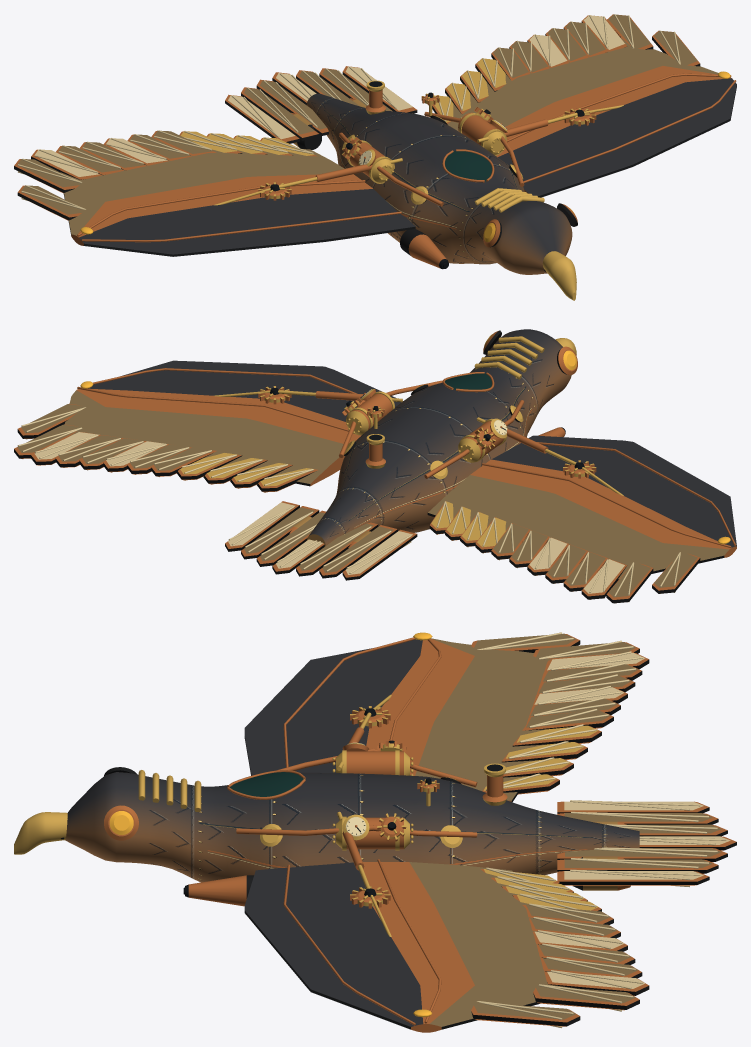
The picture shows the model from 3 angles, top to bottom: view 1: azimuth 30°, elevation 25°; view 2: azimuth 150°, elevation 25°; view 3: azimuth 270°, elevation 25°; orthographic projection. The views are drawn at different scales.
Visible parts, largest first — view 1: golden_eagle_hull; view 2: golden_eagle_hull; view 3: golden_eagle_hull.
Boxes of the visible parts, box(x1,y1,x2,y2) form: golden_eagle_hull: box(14, 14, 736, 300); golden_eagle_hull: box(14, 329, 736, 603); golden_eagle_hull: box(14, 632, 736, 1032).
Bounding box in the file's own units: 264 × 44.83 × 208.
1 material, 1 textured.
